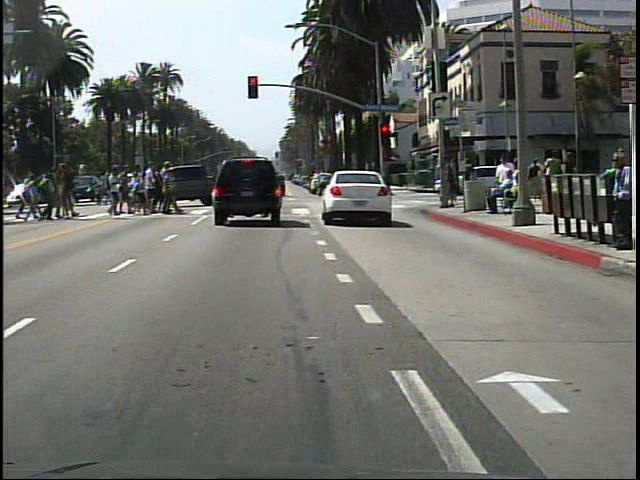person: (602, 156, 634, 263)
